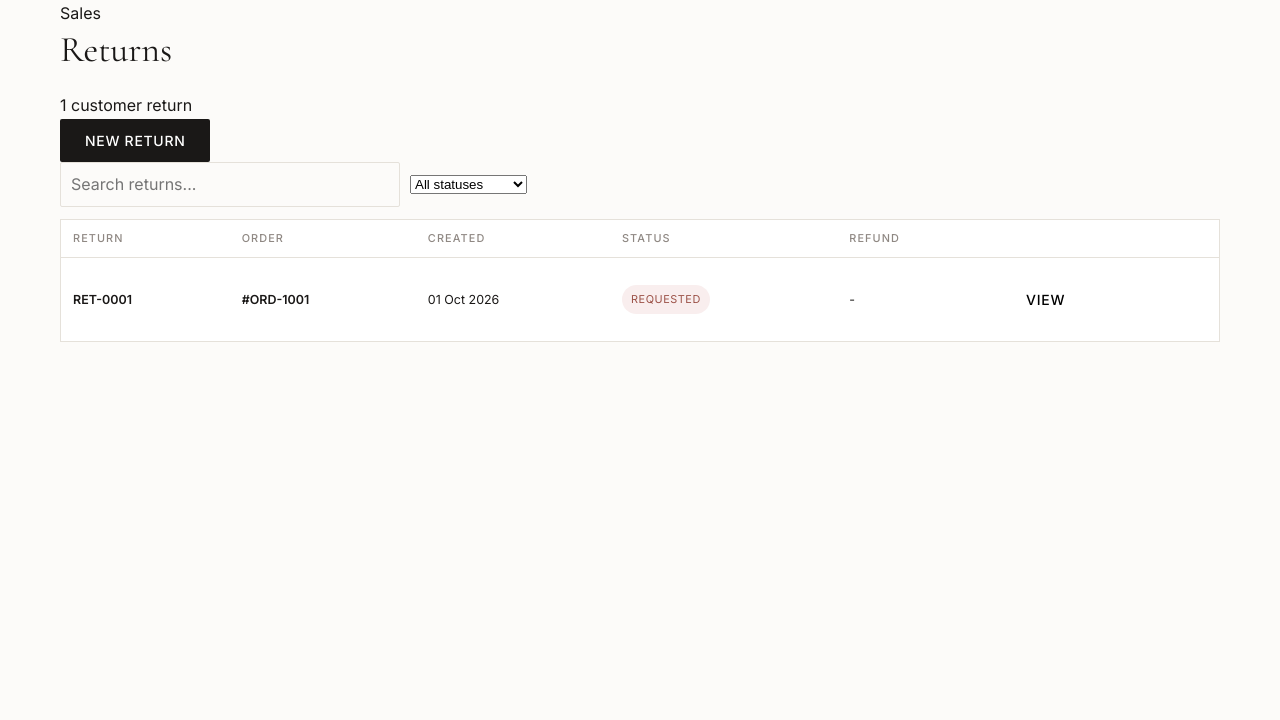
Test case: Returns admin page › opens the detail modal with order facts, items and workflow buttons
The width and height of the screenshot is (1280, 720).
Check: the text "RET-0001" is shown, box [73, 292, 132, 307]
Click the button "View".
click(1046, 300)  # box [1001, 278, 1090, 321]
(page scrolled)
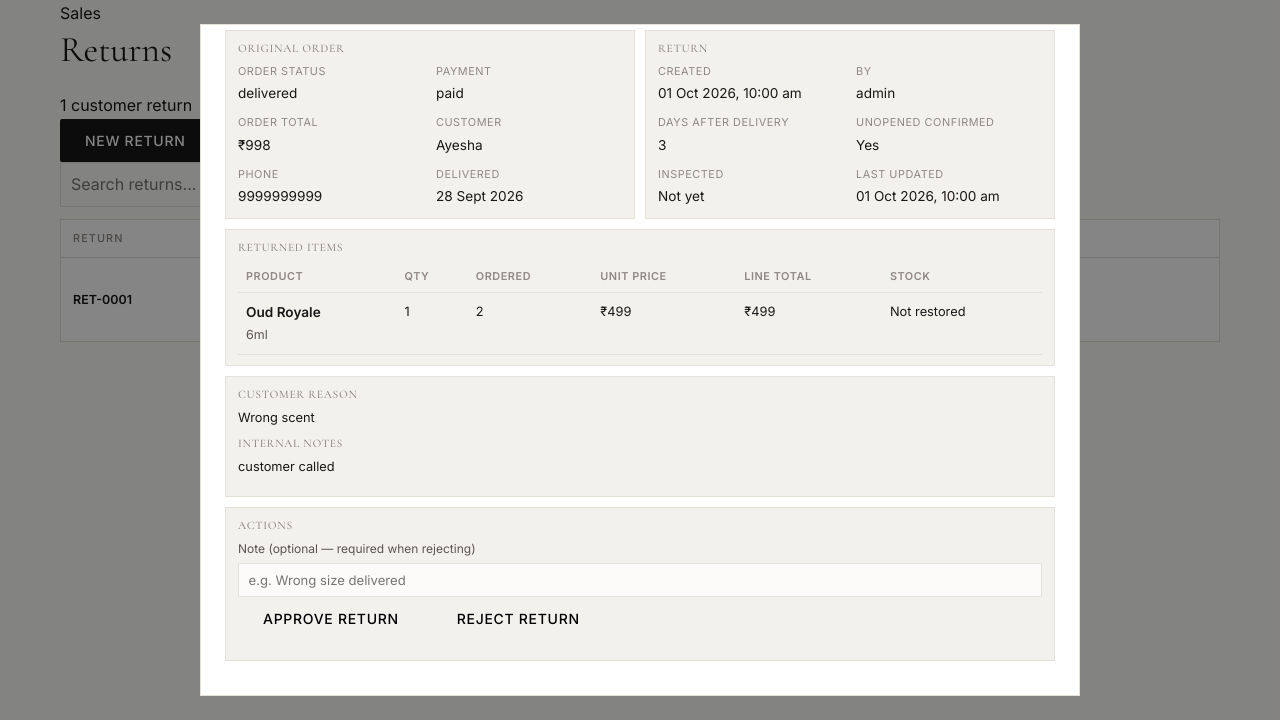
Check: the dialog is shown
Check: the heading "Original order" is shown, box [238, 41, 344, 55]
Check: the text "Wrong scent" is shown, box [238, 410, 315, 425]
